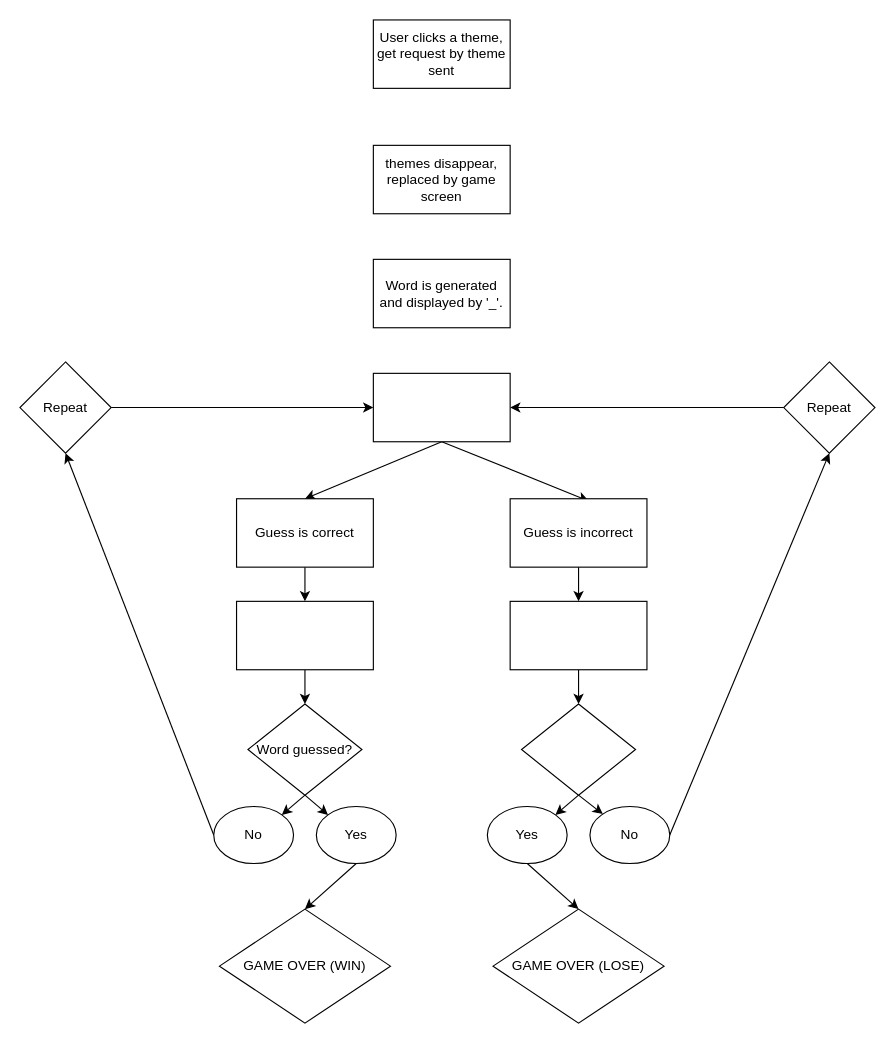
The diagram is 895 pixels wide and 1043 high, and some of its shapes have lost their labels. The shapes that lost their labels are listed below. From the top down, each one's centre as x and y in pixels, then its label:
At pixel 441 407: "User enters single characters".
At pixel 304 635: "Letter aded to word".
At pixel 578 635: "User loses one life".
At pixel 578 749: "All lives lost? (5)".
